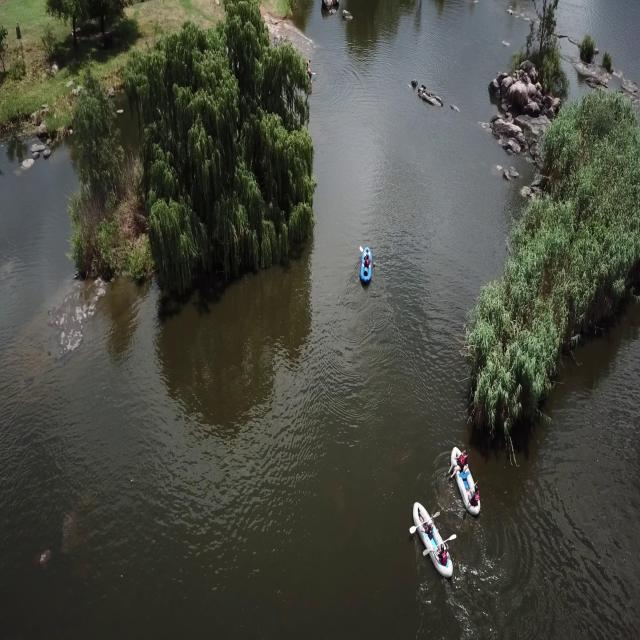kayak: (408, 498, 458, 582), (447, 444, 485, 524), (357, 244, 376, 292)
